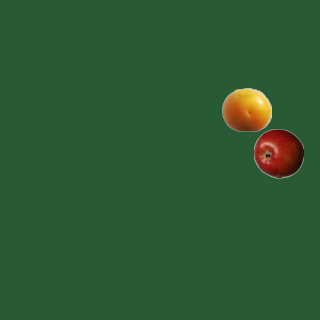Apple Braeburn: (253, 128, 303, 178)
Cherry Wax Yellow: (221, 84, 271, 134)
